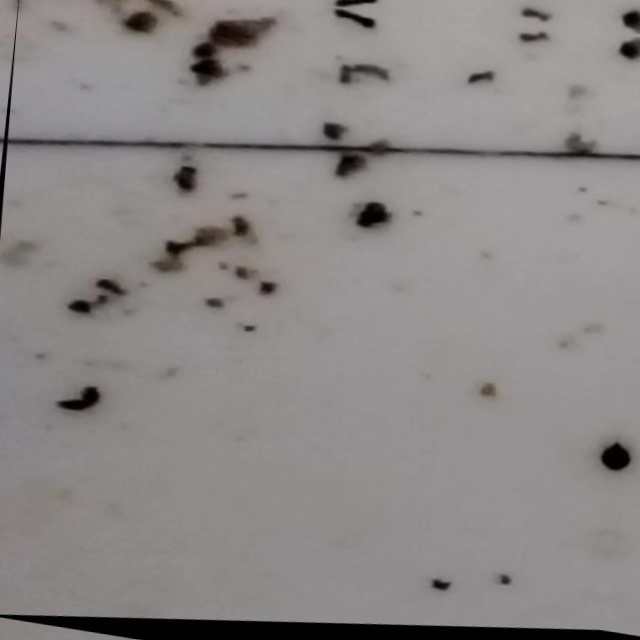varroa: (591, 442, 616, 485)
